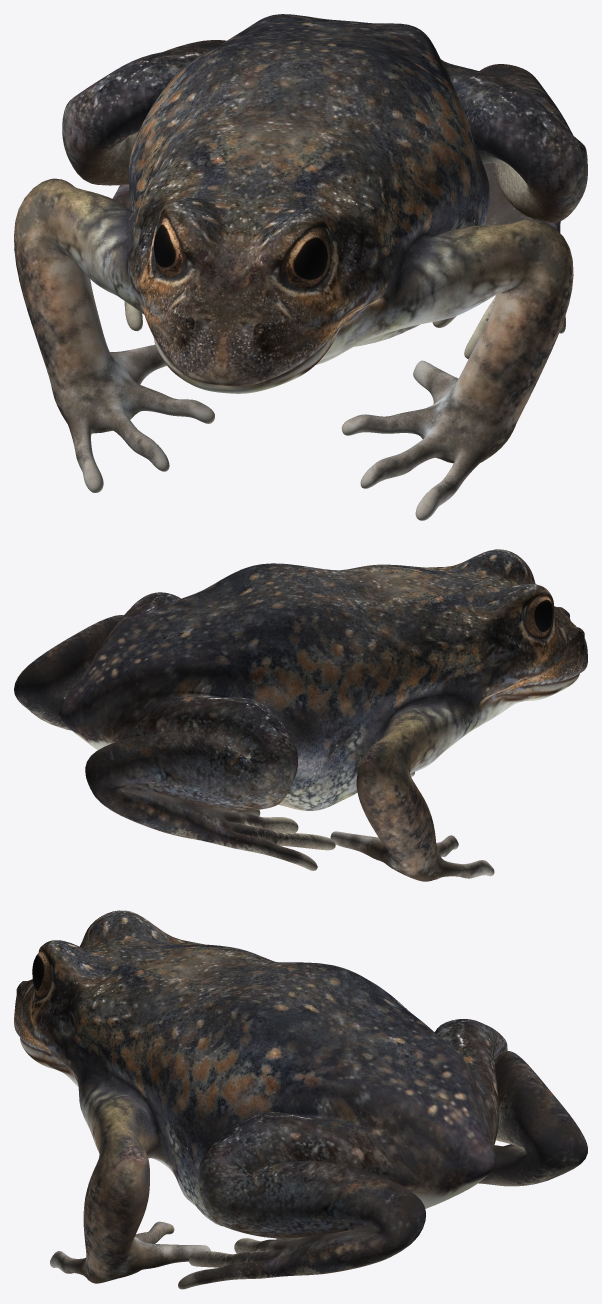
The model's file is Frog.FBX.
3 renders of one model, top to bottom at view 1: azimuth 30°, elevation 25°; view 2: azimuth 150°, elevation 25°; view 3: azimuth 270°, elevation 25°, orthographic. The views are drawn at different scales.
Parts seen in each view (by area): view 1: 12268_banjofrog_; view 2: 12268_banjofrog_; view 3: 12268_banjofrog_.
Boxes of the visible parts, bbox=[...] form: 12268_banjofrog_: bbox=[14, 14, 587, 520]; 12268_banjofrog_: bbox=[14, 549, 587, 881]; 12268_banjofrog_: bbox=[14, 910, 587, 1289].
Bounding box in the file's own units: 0.5663 × 0.3416 × 0.6045.
1 material, 1 textured.
